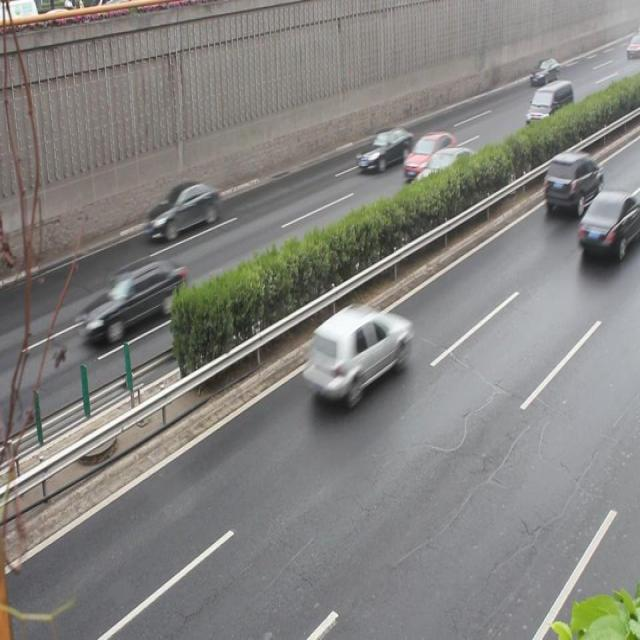car: (302, 304, 408, 399), (80, 254, 188, 339), (577, 185, 639, 256), (146, 178, 216, 240), (409, 145, 478, 205), (542, 147, 600, 210), (402, 130, 455, 176), (355, 127, 411, 169)
